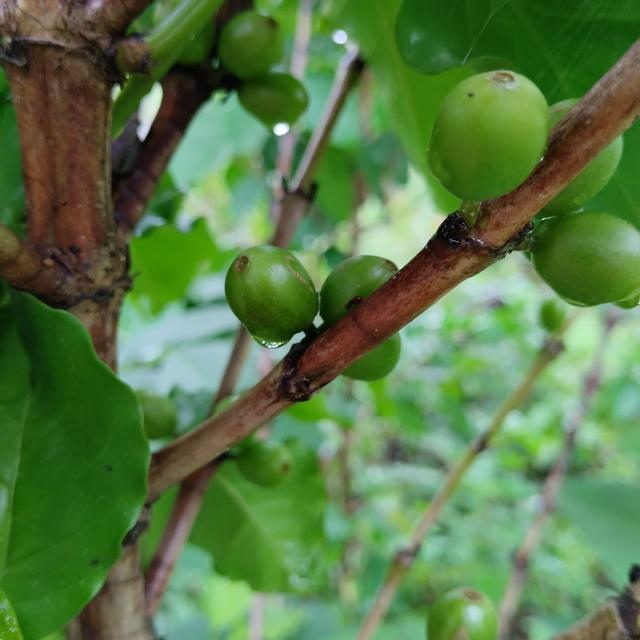green: (429, 70, 550, 200), (533, 211, 640, 307), (225, 245, 318, 343), (536, 135, 624, 219), (319, 255, 398, 327), (343, 334, 401, 382), (550, 98, 579, 128)
